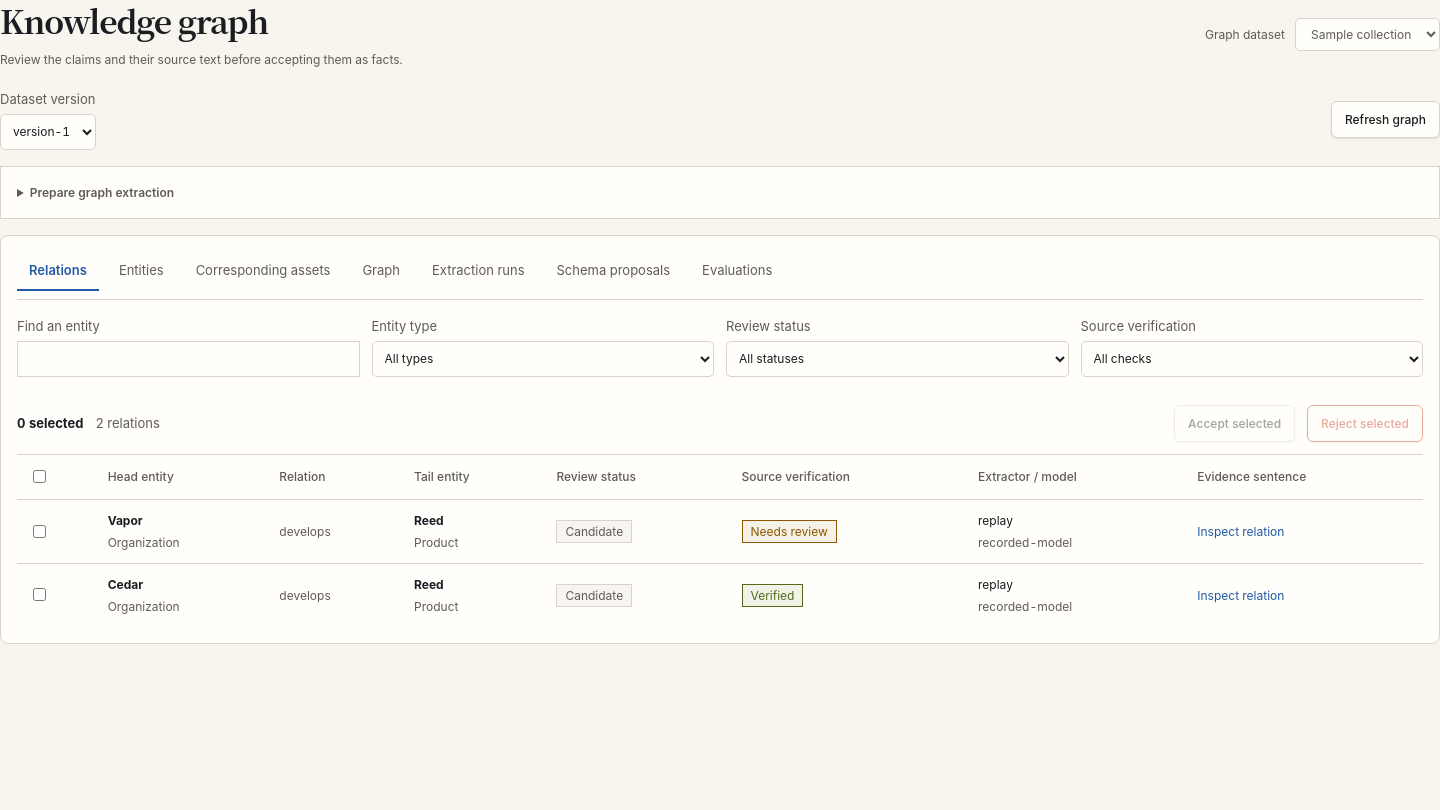
Scenario: shows partial failures and schema proposals from extraction reports
Expected: the text "Vapor" is shown, 108,513 -> 143,528
What coordinates should you click on to do the following:
click the tab "Extraction runs"
I would click on:
 (478, 272)
Its box is 420,252 -> 536,291.
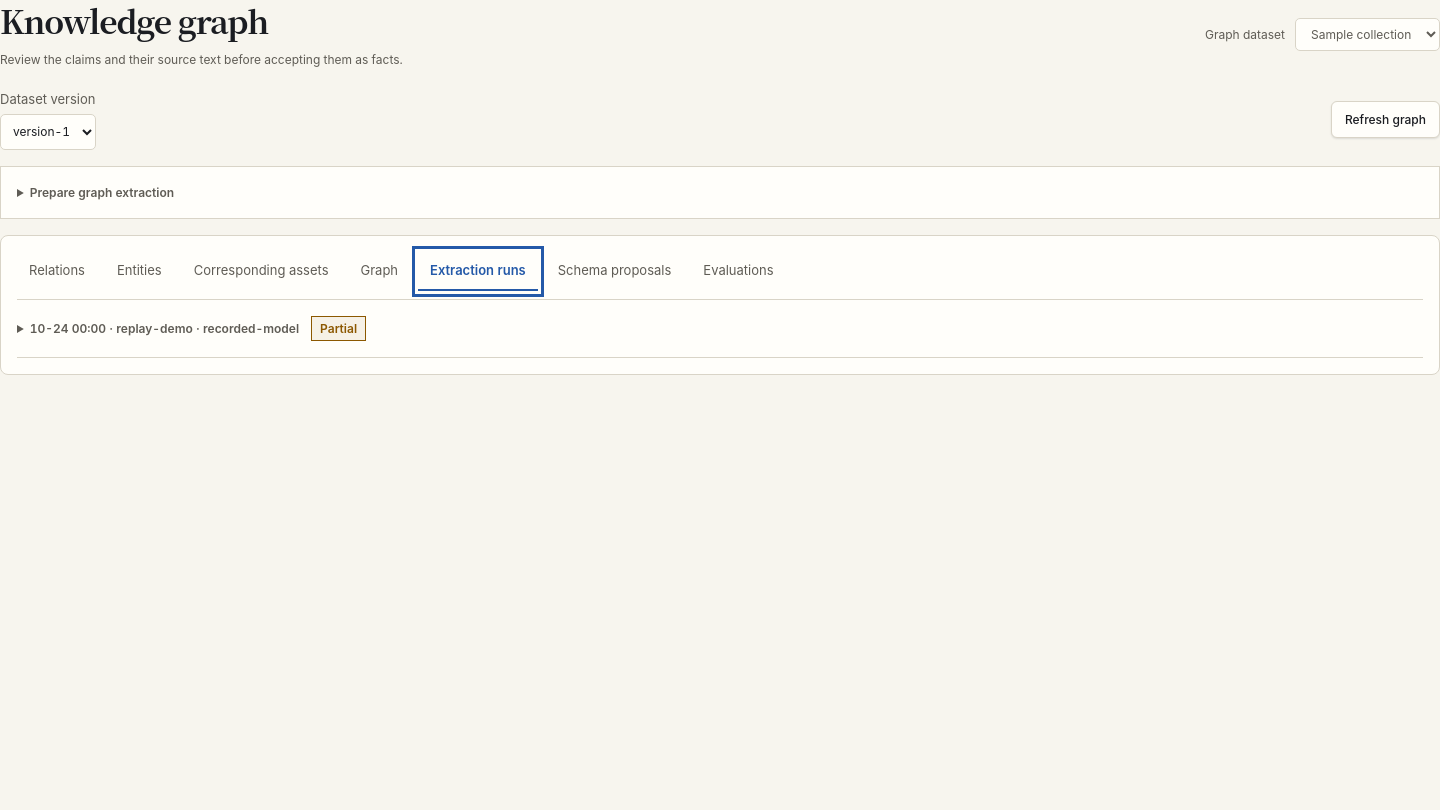
What coordinates should you click on to do the following:
click the text "10-24 00:00 · replay-demo · recorded-model"
I would click on:
 (68, 328)
Its box is 30,321 -> 299,336.
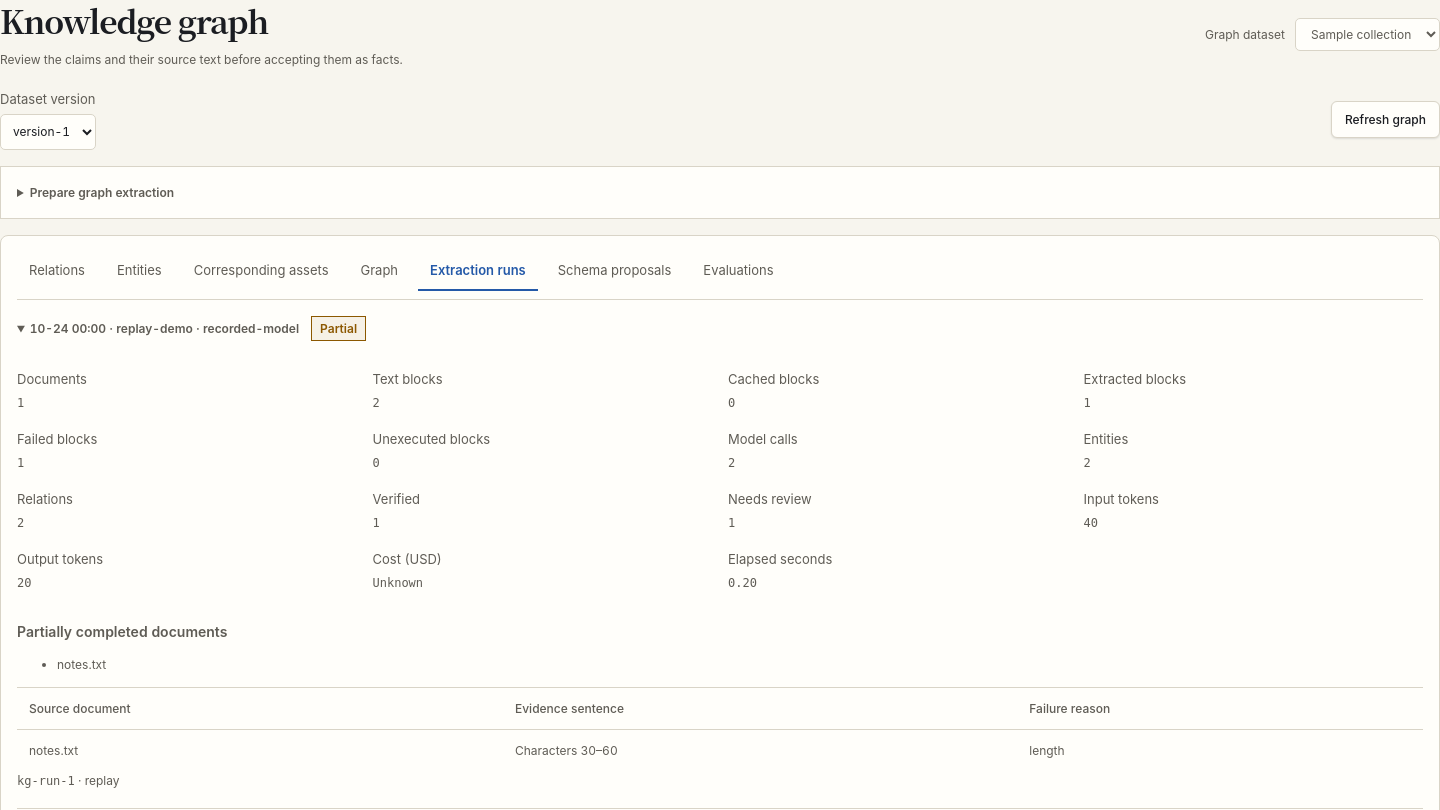
Now the text "length" is shown, box 1017,730 -> 1423,772
Now the text "Characters 30–60" is shown, box 503,730 -> 1017,772
What coordinates should you click on to do the following:
click the tab "Schema proposals"
I would click on:
 (615, 272)
Its box is 546,252 -> 683,291.
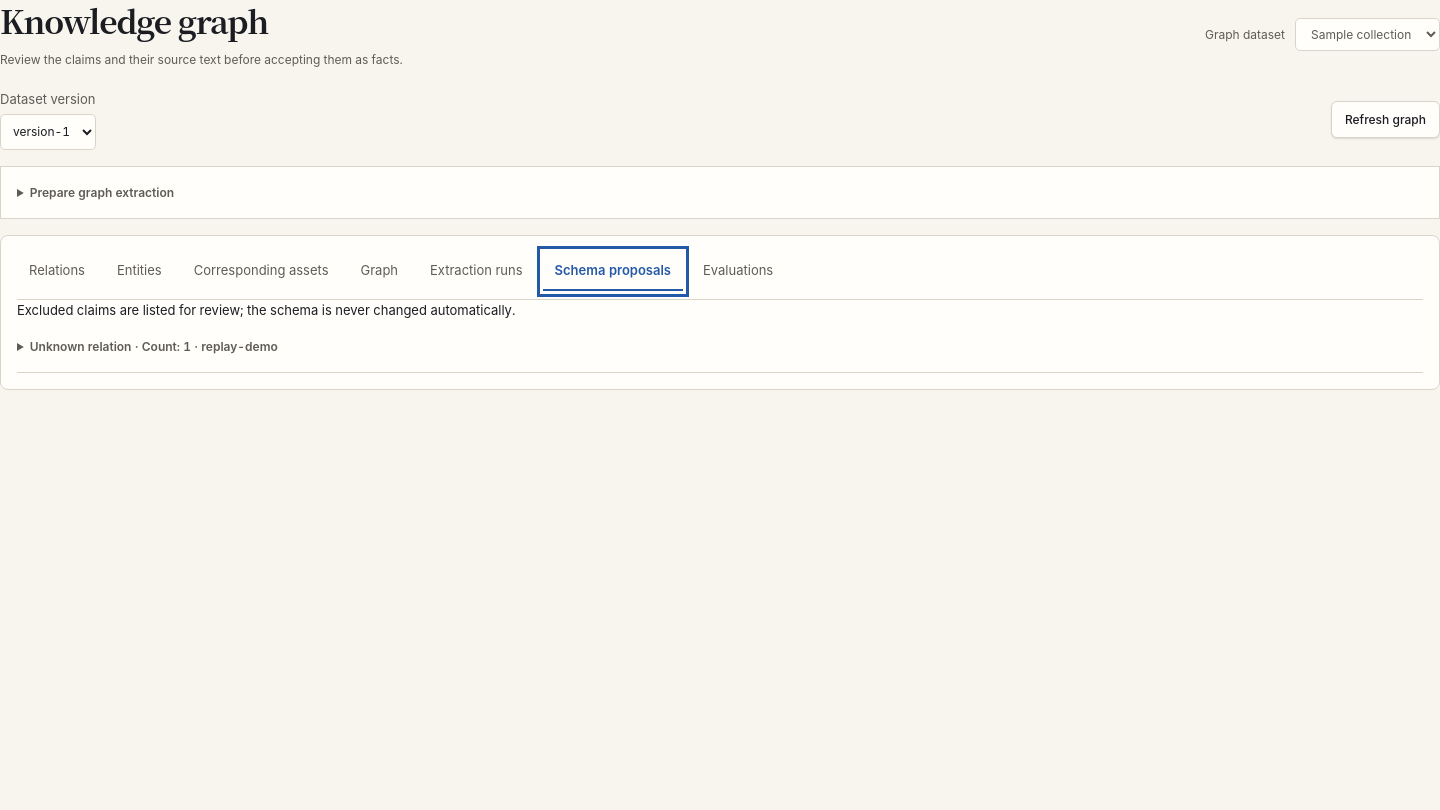
What coordinates should you click on to do the following:
click the heading "Unknown relation · Count: 1 · replay-demo"
I would click on:
 (154, 346)
Its box is 30,339 -> 278,354.
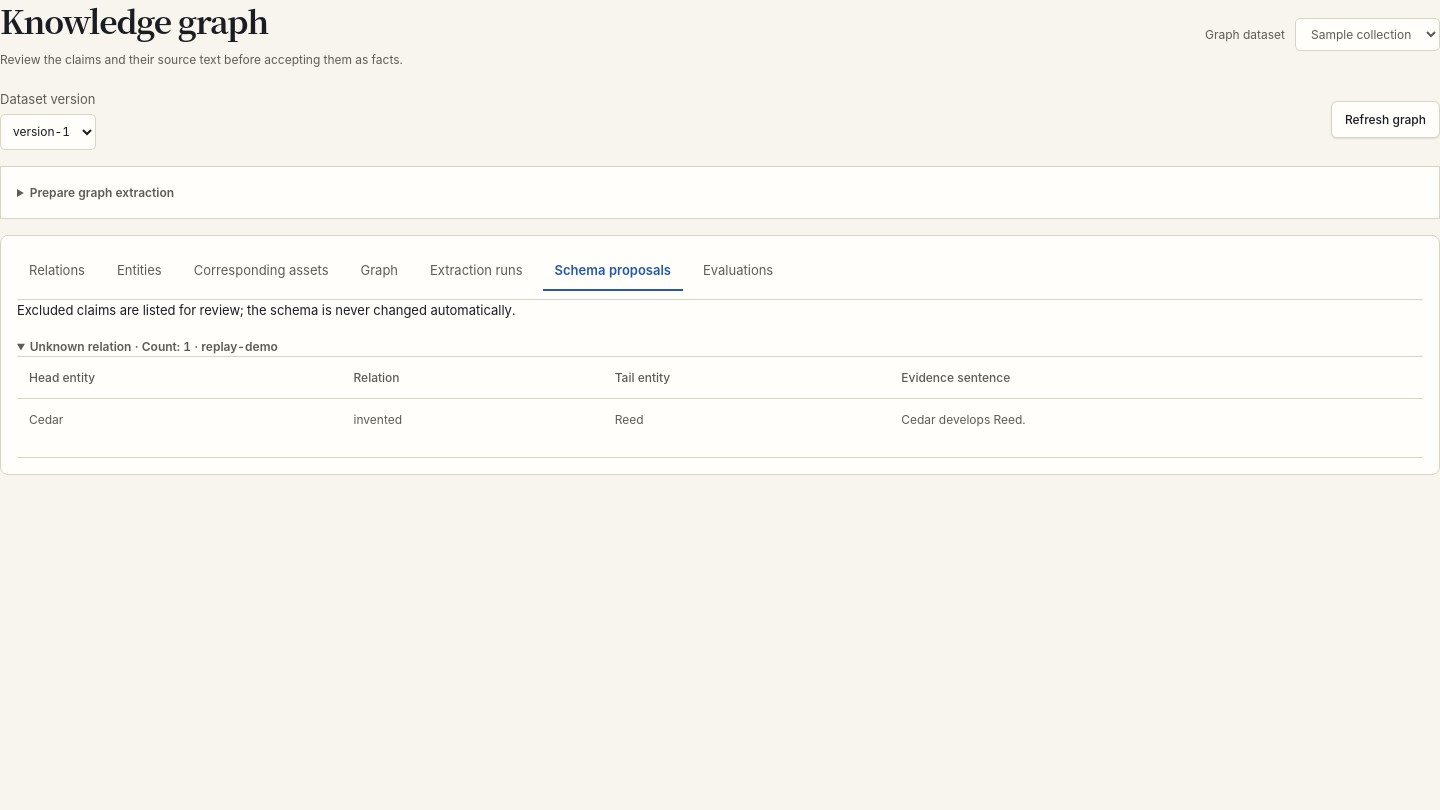
Now the text "invented" is shown, box 342,399 -> 603,441
Now the text "Cedar develops Reed." is shown, box 889,399 -> 1423,441
